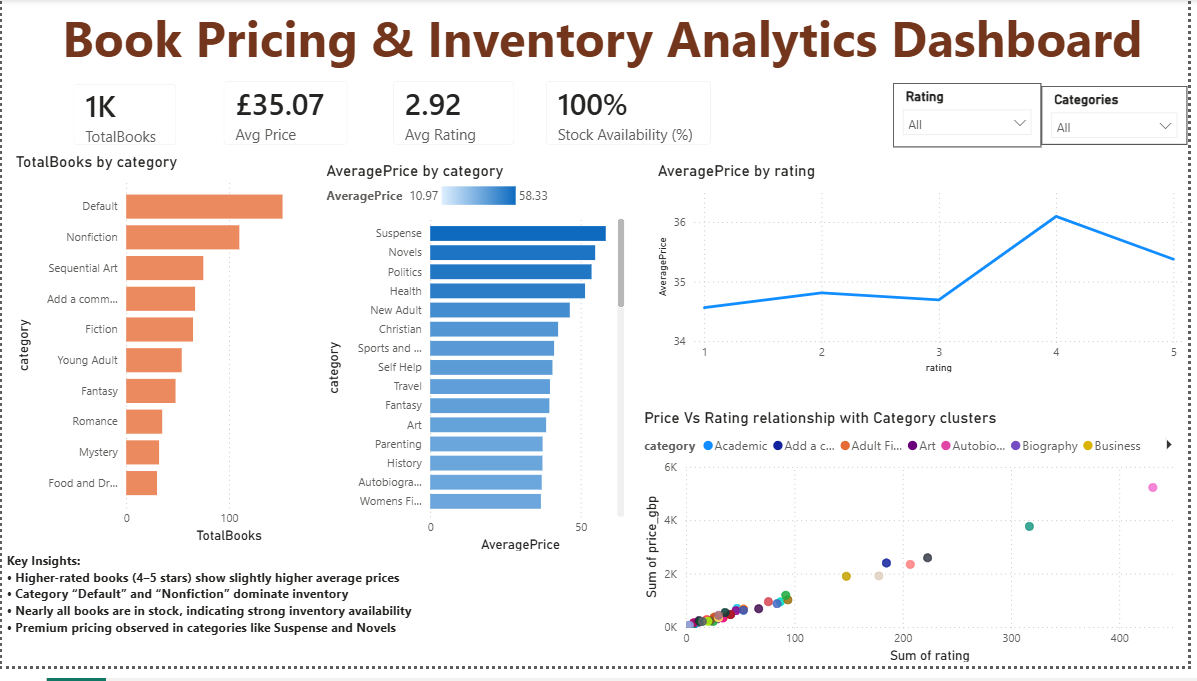

The dashboard page shown, as its layout file describes it:
{"tool":"powerbi","page":{"name":"Page 1","canvas":[1280,720],"ordinal":0},"visuals":[{"type":"cardVisual","fields":{"Data":["books_cleaned.TotalBooks"]},"box":[59.9,74.5,145.7,100.4],"z":0},{"type":"cardVisual","fields":{"Data":["books_cleaned.AveragePrice"]},"box":[221.8,71.2,168.4,103.6],"z":1},{"type":"cardVisual","fields":{"Data":["books_cleaned.AverageRating"]},"box":[404.8,71.2,165.2,103.6],"z":2},{"type":"cardVisual","fields":{"Data":["books_cleaned.% In Stock"]},"box":[570,71.2,212.1,103.6],"z":3},{"type":"clusteredBarChart","fields":{"Category":["books_cleaned.category"],"Y":["books_cleaned.TotalBooks"]},"box":[9.7,165.2,361.1,425.9],"z":5},{"type":"clusteredBarChart","fields":{"Category":["books_cleaned.category"],"Y":["books_cleaned.AveragePrice"]},"box":[344.9,174.9,331.9,425.9],"z":6},{"type":"slicer","fields":{"Values":["books_cleaned.category"]},"box":[1122.1,93.9,157.1,63.1],"z":9},{"type":"slicer","fields":{"Values":["books_cleaned.rating"]},"box":[961.8,90.7,160.3,69.6],"z":10},{"type":"textbox","box":[59.9,0,1204.7,82.6],"z":12},{"type":"lineChart","fields":{"Category":["books_cleaned.rating"],"Y":["books_cleaned.AveragePrice"]},"box":[702.7,174.9,576.4,233.2],"z":14},{"type":"textbox","box":[0,591,448.5,106.9],"z":15},{"type":"scatterChart","title":"Price Vs Rating relationship with Category clusters","fields":{"X":["Sum(books_cleaned.rating)"],"Y":["Sum(books_cleaned.price_gbp)"],"Series":["books_cleaned.category"]},"box":[688.2,442,591,278.5],"z":16}]}

Visuals, with their boxes in screenshot pixels (x1, y1, x2, y2), scaled from the page's 1280x720 canvas onto the 1197x681 screenshot:
cardVisual - books_cleaned.TotalBooks: 56, 70, 192, 165
cardVisual - books_cleaned.AveragePrice: 207, 67, 365, 165
cardVisual - books_cleaned.AverageRating: 379, 67, 533, 165
cardVisual - books_cleaned.% In Stock: 533, 67, 731, 165
clusteredBarChart - books_cleaned.category x books_cleaned.TotalBooks: 9, 156, 347, 559
clusteredBarChart - books_cleaned.category x books_cleaned.AveragePrice: 323, 165, 633, 568
slicer - books_cleaned.category: 1049, 89, 1196, 148
slicer - books_cleaned.rating: 899, 86, 1049, 152
textbox: 56, 0, 1183, 78
lineChart - books_cleaned.rating x books_cleaned.AveragePrice: 657, 165, 1196, 386
textbox: 0, 559, 419, 660
"Price Vs Rating relationship with Category clusters" scatterChart: 644, 418, 1196, 680
